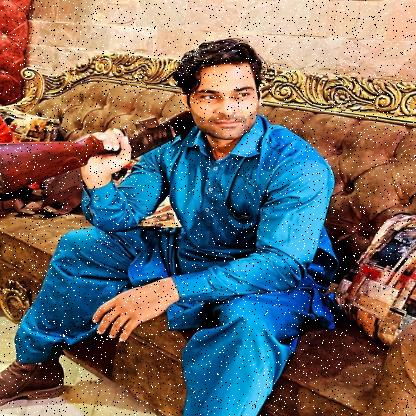rifle: (0, 80, 277, 196)
